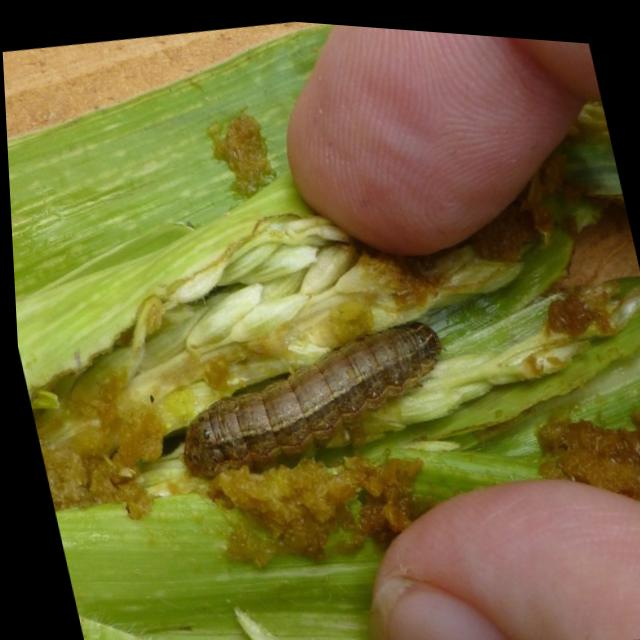Fall-Armyworm: (131, 260, 462, 521)
